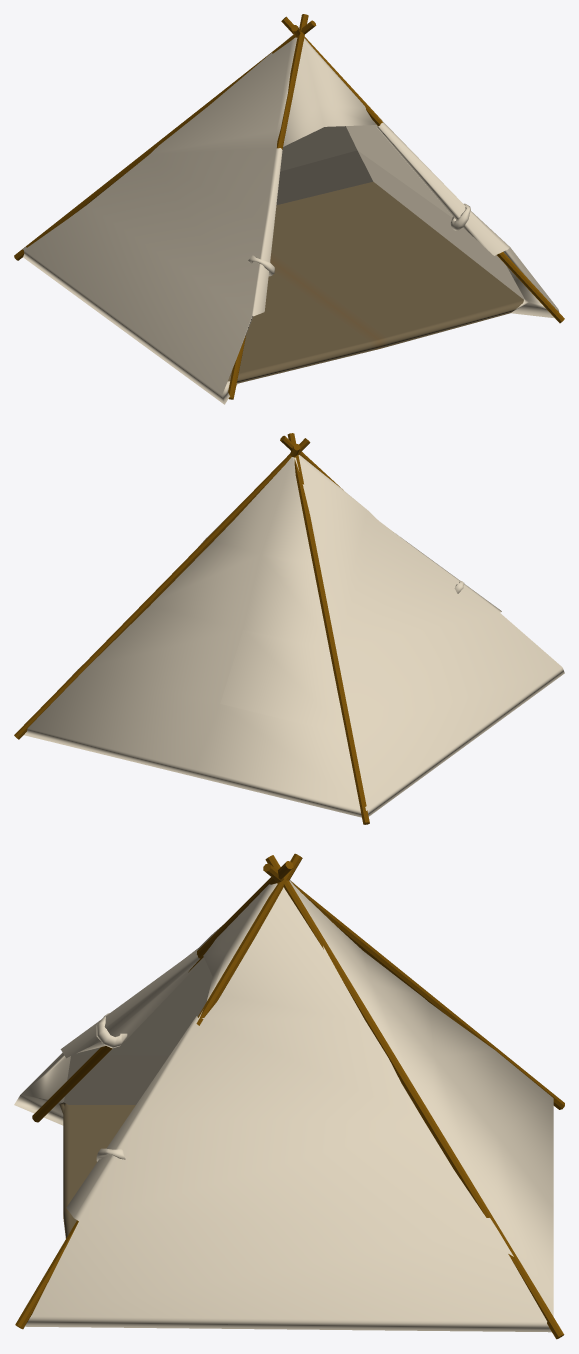
Rendered from tent.fbx.
The picture shows the model from 3 angles, top to bottom: view 1: azimuth 30°, elevation 25°; view 2: azimuth 150°, elevation 25°; view 3: azimuth 270°, elevation 25°; orthographic projection. The views are drawn at different scales.
Parts seen in each view (by area): view 1: tent; view 2: tent; view 3: tent.
Part boxes in pixels (bbox=[...]): tent: bbox=[14, 14, 564, 404]; tent: bbox=[14, 433, 564, 824]; tent: bbox=[14, 853, 564, 1339].
Size of the model in its own units: 0.0316 by 0.0231 by 0.0312.
Materials: 1 (1 with a texture image).
